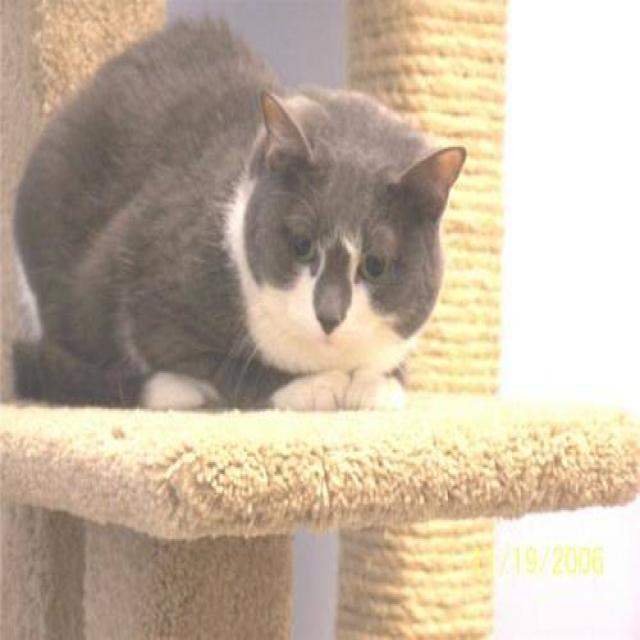cat: (10, 12, 467, 412)
